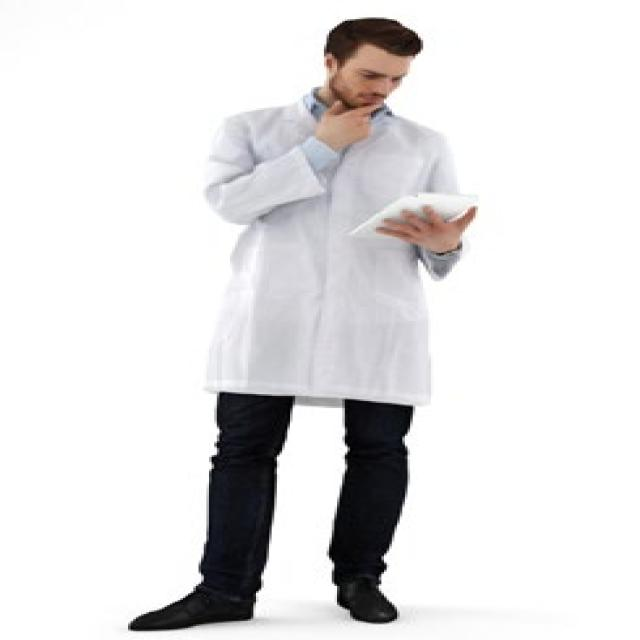standing: (127, 17, 488, 633)
